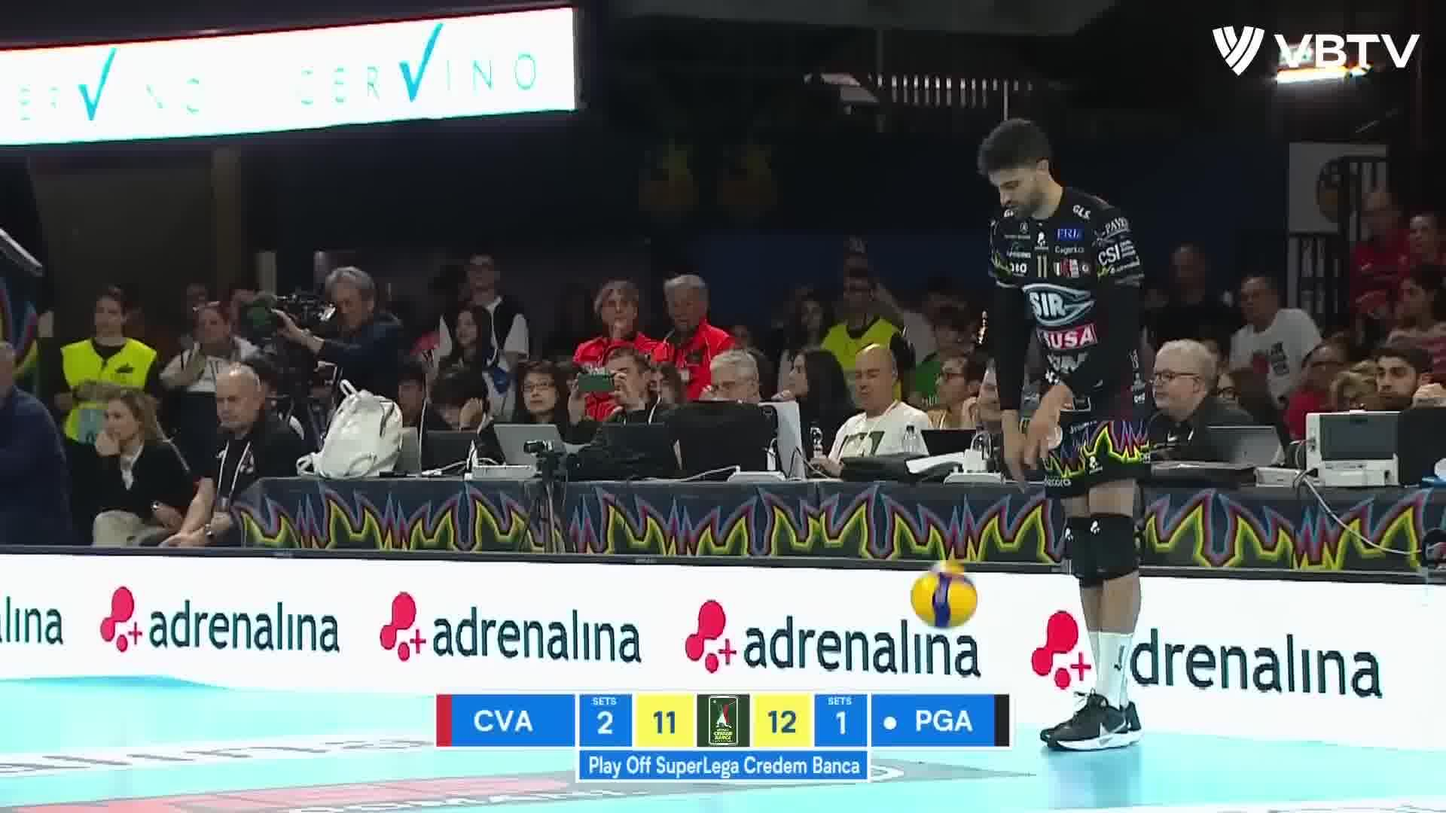balls: (906, 557, 984, 634)
